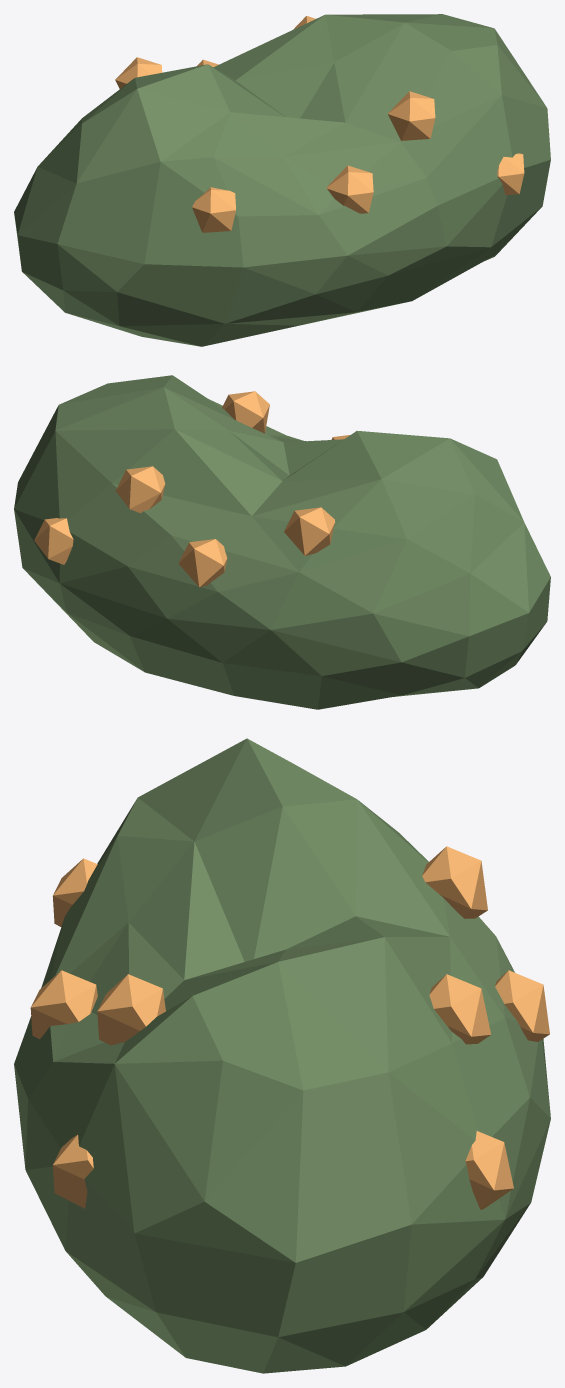
Rendered from Bush_01.glb.
3 views of the same model, one above another, from view 1: azimuth 30°, elevation 25°; view 2: azimuth 150°, elevation 25°; view 3: azimuth 270°, elevation 25° (orthographic). The views are drawn at different scales.
Visible parts, largest first — view 1: Bush_01; view 2: Bush_01; view 3: Bush_01.
Boxes of the visible parts, x1=… form: Bush_01: x1=14, y1=14, x2=550, y2=346; Bush_01: x1=14, y1=375, x2=550, y2=709; Bush_01: x1=14, y1=738, x2=550, y2=1373.
Size of the model in its own units: 6.95 by 3.02 by 4.03.
